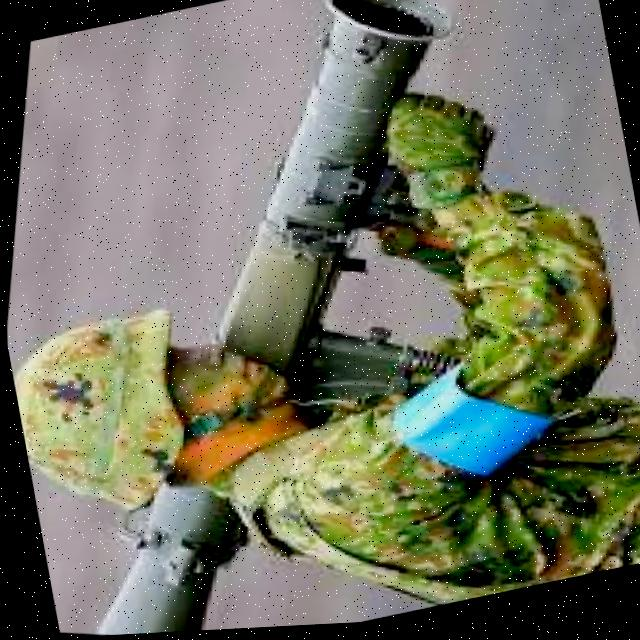rocket: (146, 0, 516, 414)
